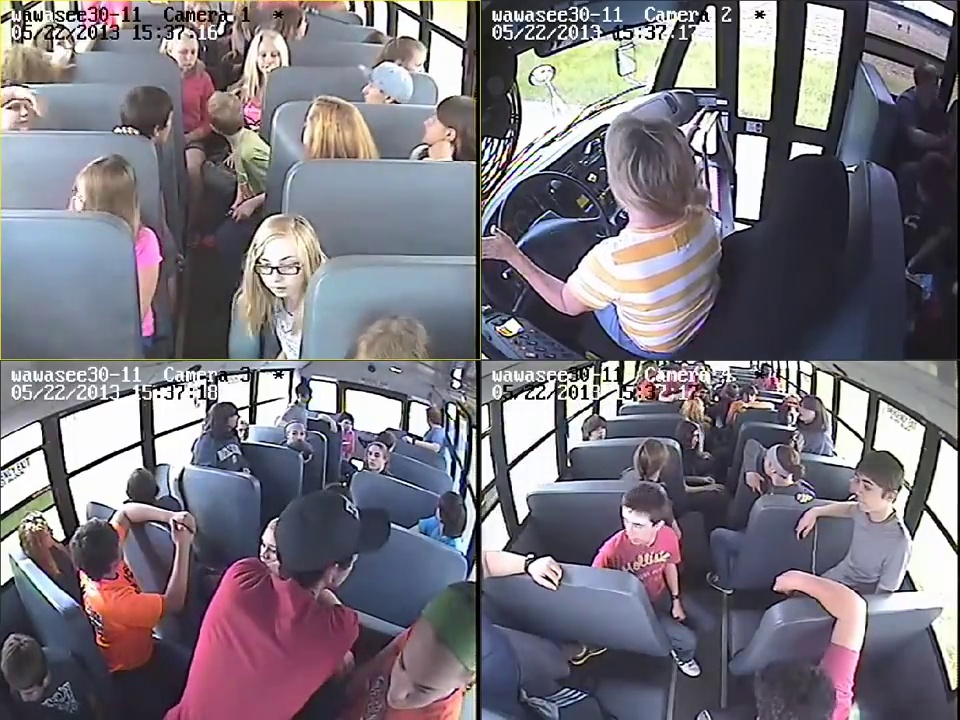face: (383, 638, 443, 707), (255, 237, 306, 296), (853, 475, 889, 512), (621, 506, 654, 545), (256, 36, 280, 72), (170, 41, 201, 68), (5, 101, 31, 127), (369, 447, 385, 471)
